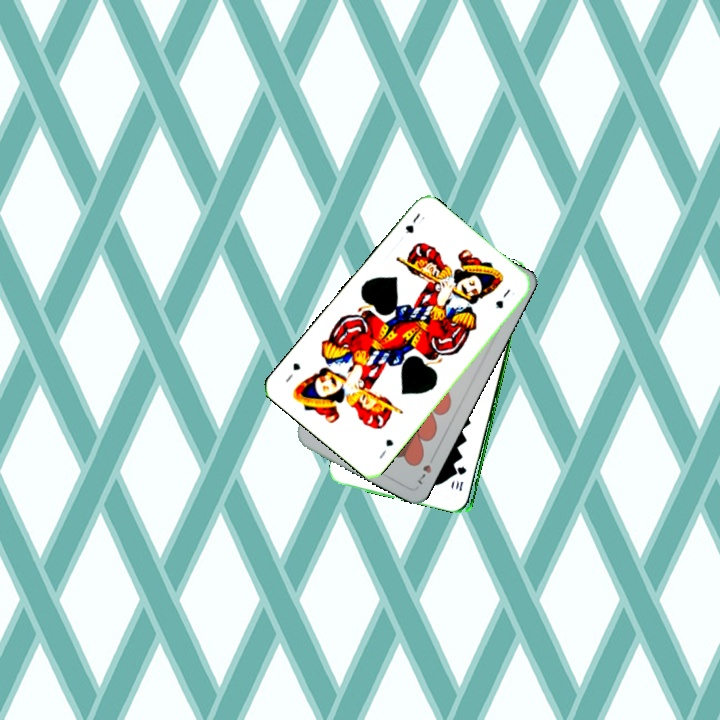G10: (451, 462, 469, 494)
GU: (401, 209, 427, 236), (375, 435, 396, 462)
H7: (413, 451, 438, 487)
